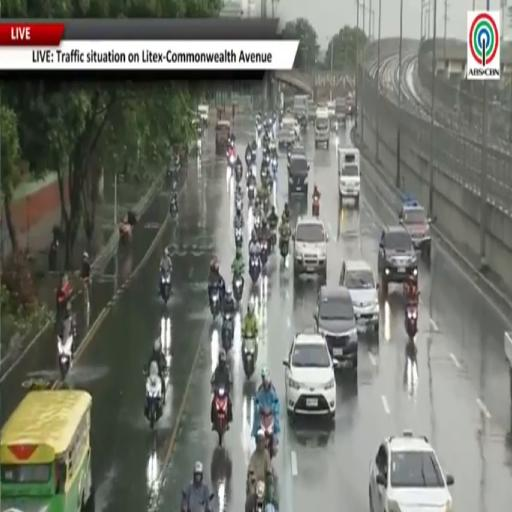bus: (0, 390, 94, 511)
car: (369, 431, 453, 511), (283, 333, 336, 419), (314, 285, 358, 370), (340, 260, 379, 334), (378, 226, 417, 293), (293, 216, 328, 283), (399, 199, 431, 259), (288, 155, 309, 198), (277, 117, 295, 148), (288, 143, 306, 162)
motorcycle: (145, 373, 163, 428), (260, 408, 276, 458), (214, 388, 228, 445), (57, 335, 73, 380), (180, 491, 214, 511), (242, 338, 257, 378), (119, 212, 136, 243), (222, 314, 234, 352), (405, 303, 417, 339), (403, 278, 419, 303), (160, 271, 171, 303), (209, 289, 221, 318), (249, 255, 261, 284), (255, 482, 266, 511), (233, 276, 244, 303), (261, 239, 268, 267), (169, 195, 178, 216), (234, 164, 243, 182), (269, 229, 276, 252), (312, 197, 320, 217), (280, 240, 288, 259), (271, 158, 278, 179), (235, 228, 242, 248), (227, 151, 235, 168), (262, 198, 270, 215), (254, 213, 261, 231), (248, 183, 255, 201), (263, 151, 270, 169), (261, 165, 268, 183), (248, 164, 255, 180), (245, 151, 251, 167), (197, 138, 202, 157), (251, 148, 257, 163), (236, 197, 242, 211), (256, 123, 261, 137)
truck: (338, 148, 360, 207), (315, 106, 329, 148), (293, 95, 309, 130), (504, 332, 511, 401), (197, 103, 209, 127), (335, 98, 346, 123), (327, 101, 335, 118)
